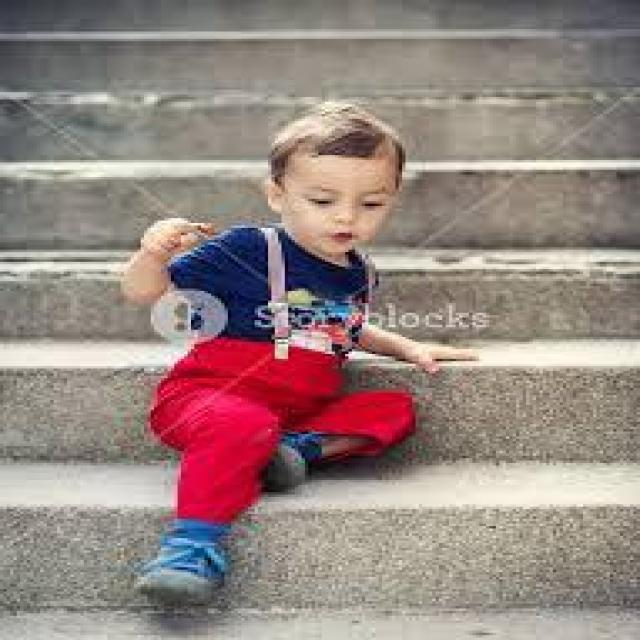child: (97, 97, 456, 611)
